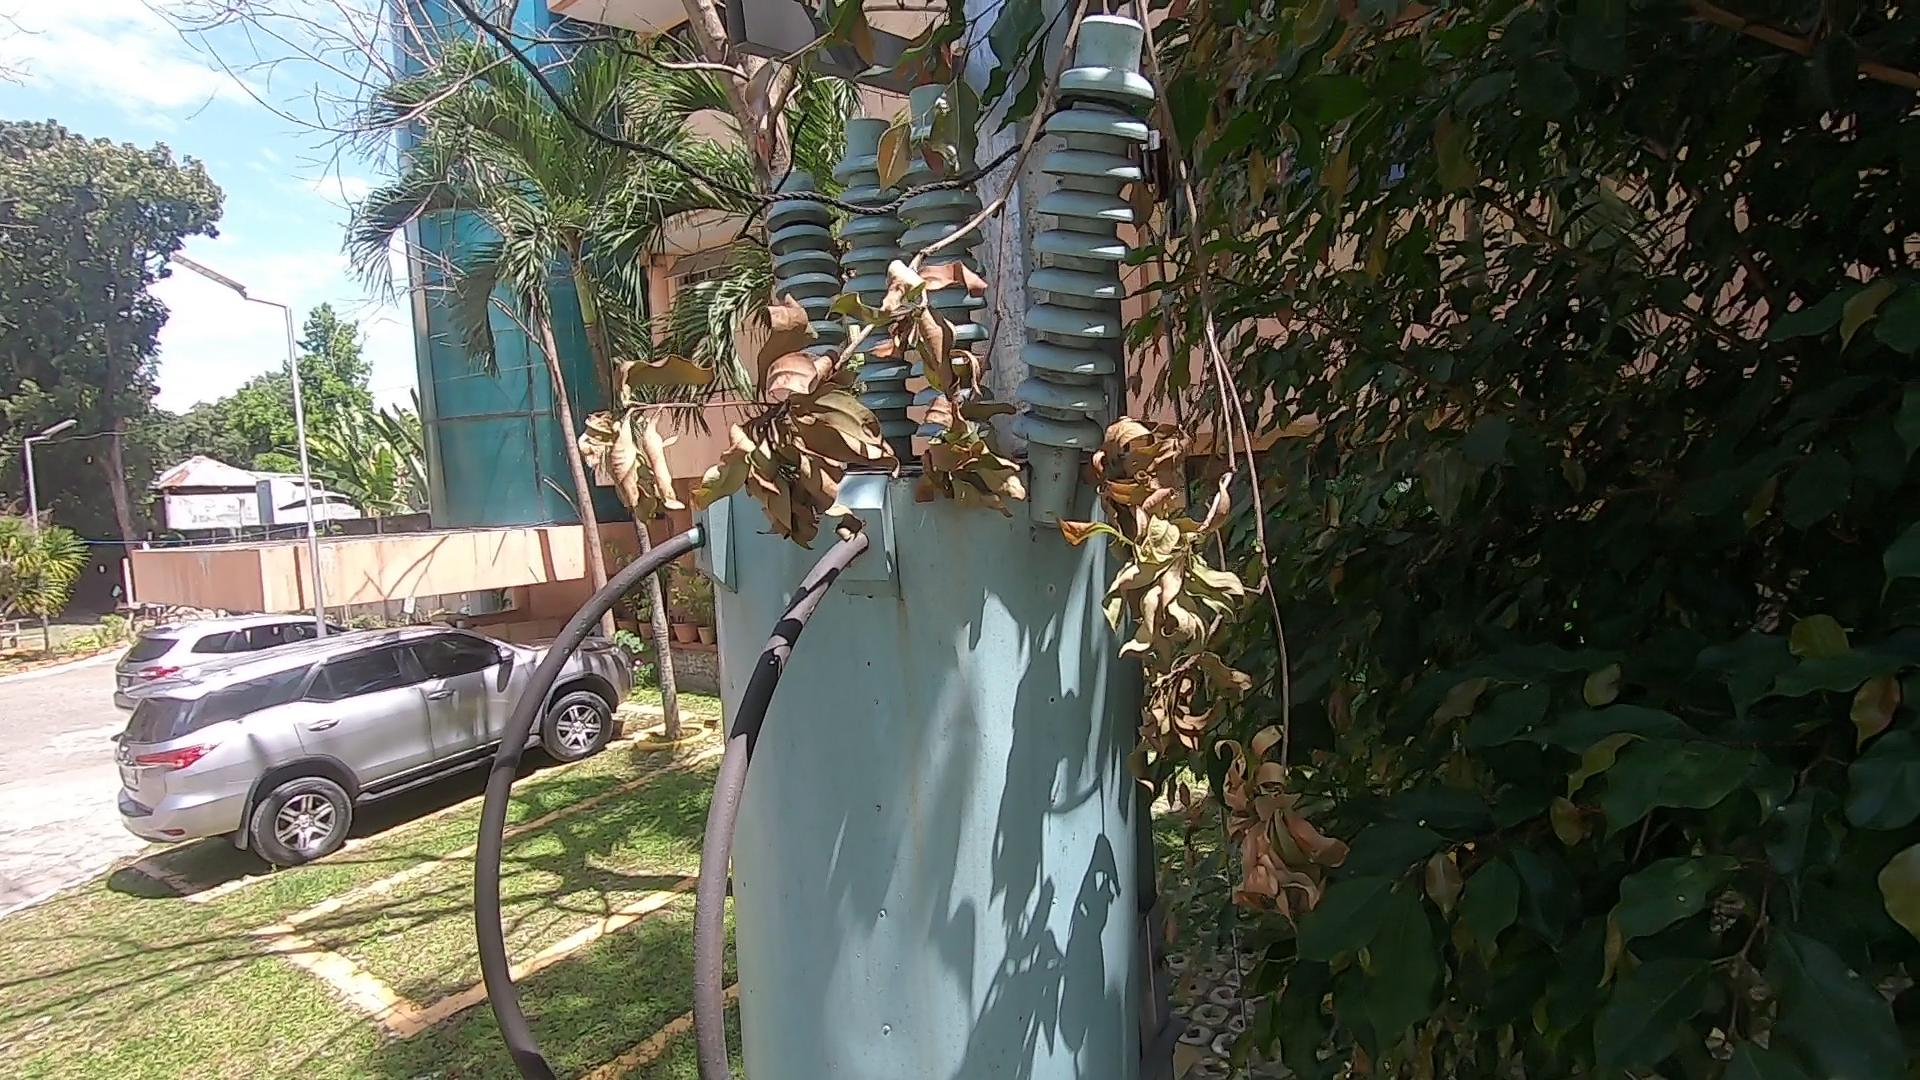branch with leaves: (593, 7, 1062, 589), (1124, 1, 1364, 936)
